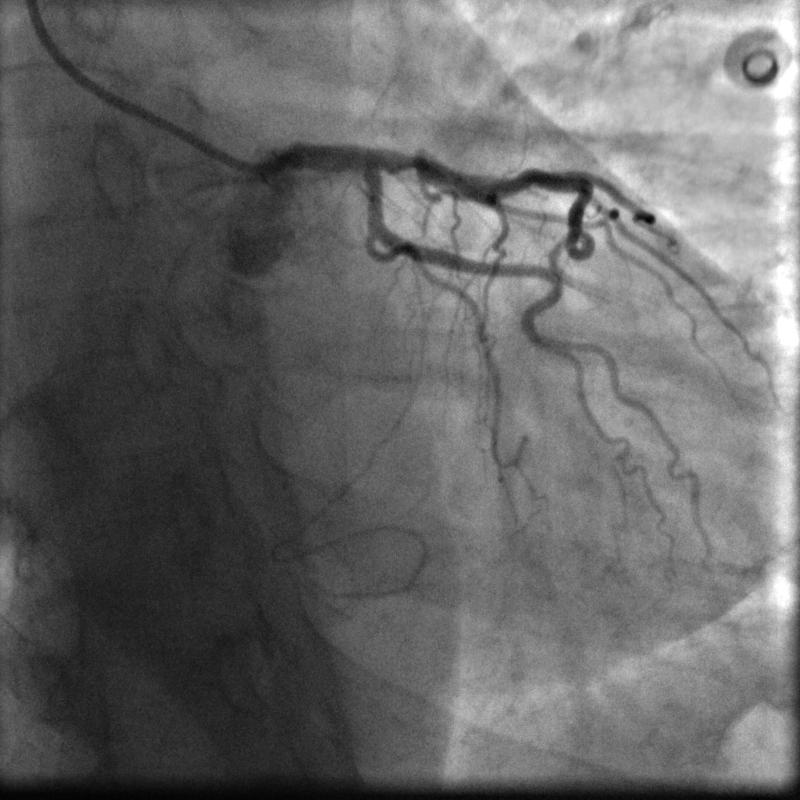Stenosis: (393, 146, 425, 175)
